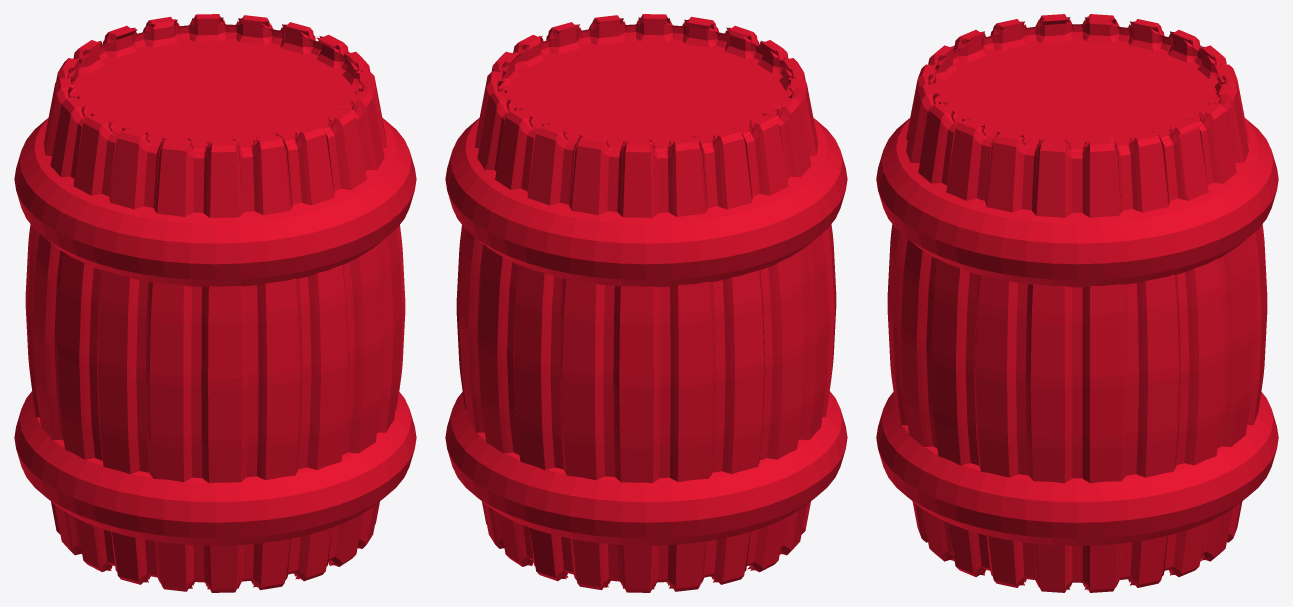
Rendered from barrell.fbx.
3 views of the same model, side by side, from view 1: azimuth 30°, elevation 25°; view 2: azimuth 150°, elevation 25°; view 3: azimuth 270°, elevation 25° (orthographic).
Visible parts, largest first — view 1: Cylinder; view 2: Cylinder; view 3: Cylinder.
Part boxes in pixels (box(x1,y1,x2,y2)): Cylinder: box(14, 14, 416, 592); Cylinder: box(445, 14, 847, 592); Cylinder: box(876, 14, 1278, 592).
Size of the model in its own units: 250 by 308 by 250.
